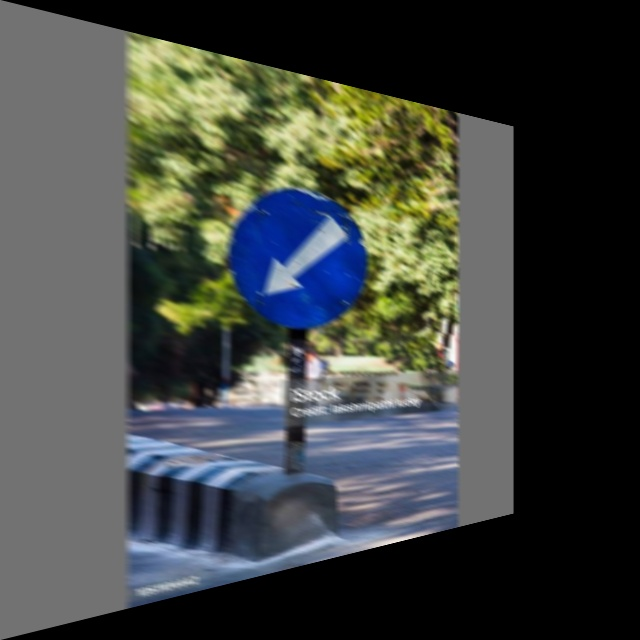Compulsory_Keep_Left: (223, 176, 374, 343)
